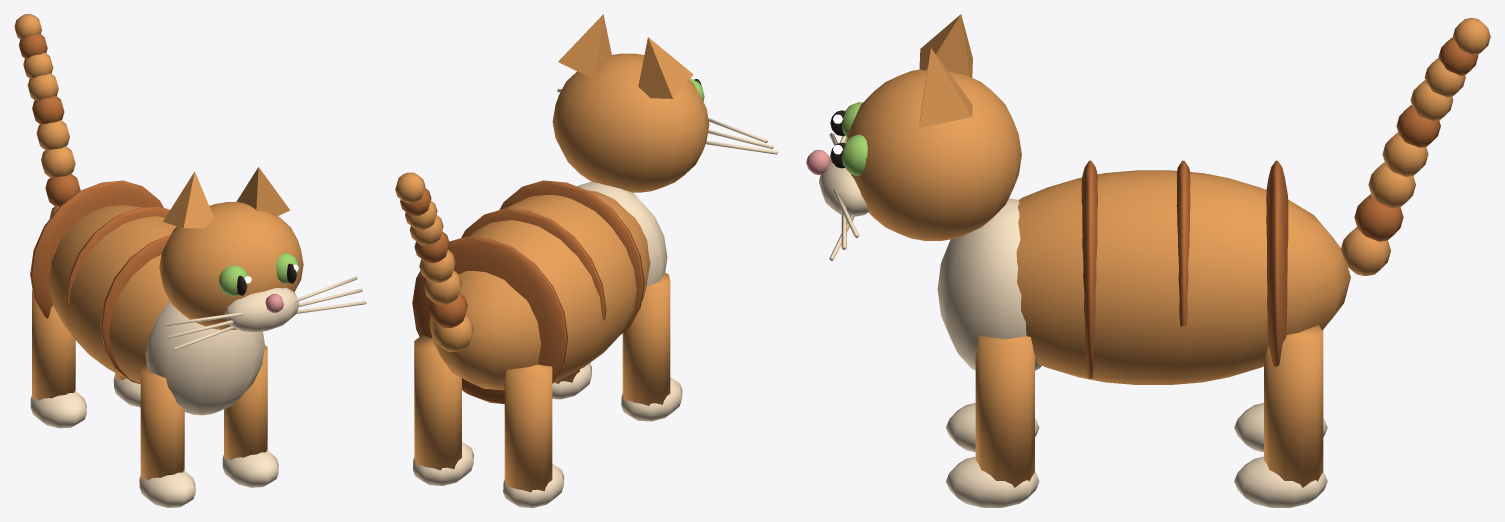
Rendered from house-cat.glb.
3 views of the same model, side by side, from view 1: azimuth 30°, elevation 25°; view 2: azimuth 150°, elevation 25°; view 3: azimuth 270°, elevation 25° (orthographic). The views are drawn at different scales.
Visible parts, largest first — view 1: body, skull, chest, stripe-2, leg-fl-bone, leg-bl-bone, leg-fr-bone, muzzle, stripe-0, ear--1, paw-fl, paw-fr (+14 smaller); view 2: body, skull, stripe-2, leg-bl-bone, leg-br-bone, leg-fl-bone, stripe-0, chest, stripe-1, ear--1, ear-1, paw-fl (+12 smaller); view 3: body, skull, chest, leg-fr-bone, leg-br-bone, stripe-2, stripe-0, paw-fr, paw-br, ear-1, ear--1, stripe-1 (+13 smaller).
Boxes of the visible parts, x1=… form: body: x1=48, y1=205, x2=176, y2=383; skull: x1=159, y1=202, x2=303, y2=329; chest: x1=145, y1=299, x2=264, y2=415; stripe-2: x1=30, y1=180, x2=163, y2=318; leg-fl-bone: x1=140, y1=364, x2=184, y2=480; leg-bl-bone: x1=32, y1=290, x2=75, y2=400; leg-fr-bone: x1=224, y1=345, x2=267, y2=459; muzzle: x1=224, y1=287, x2=299, y2=331; stripe-0: x1=100, y1=234, x2=170, y2=383; ear--1: x1=163, y1=171, x2=214, y2=228; paw-fl: x1=139, y1=470, x2=195, y2=507; paw-fr: x1=222, y1=450, x2=278, y2=487; body: x1=429, y1=190, x2=650, y2=390; skull: x1=552, y1=53, x2=709, y2=192; stripe-2: x1=412, y1=236, x2=568, y2=403; leg-bl-bone: x1=504, y1=364, x2=552, y2=492; leg-br-bone: x1=414, y1=335, x2=461, y2=470; leg-fl-bone: x1=622, y1=272, x2=670, y2=405; stripe-0: x1=499, y1=180, x2=644, y2=334; chest: x1=577, y1=182, x2=667, y2=286; stripe-1: x1=461, y1=208, x2=606, y2=320; ear--1: x1=638, y1=37, x2=693, y2=98; ear-1: x1=558, y1=14, x2=612, y2=78; paw-fl: x1=621, y1=377, x2=682, y2=421; body: x1=1016, y1=170, x2=1350, y2=384; skull: x1=847, y1=69, x2=1021, y2=240; chest: x1=937, y1=198, x2=1041, y2=370; leg-fr-bone: x1=975, y1=335, x2=1034, y2=487; leg-br-bone: x1=1264, y1=325, x2=1323, y2=487; stripe-2: x1=1266, y1=160, x2=1288, y2=367; stripe-0: x1=1081, y1=160, x2=1097, y2=379; paw-fr: x1=946, y1=456, x2=1039, y2=507; paw-br: x1=1234, y1=456, x2=1327, y2=507; ear-1: x1=919, y1=48, x2=972, y2=127; ear--1: x1=919, y1=14, x2=972, y2=77; stripe-1: x1=1176, y1=160, x2=1190, y2=326.
Bounding box in the file's own units: 0.7 × 1.19 × 1.62.
